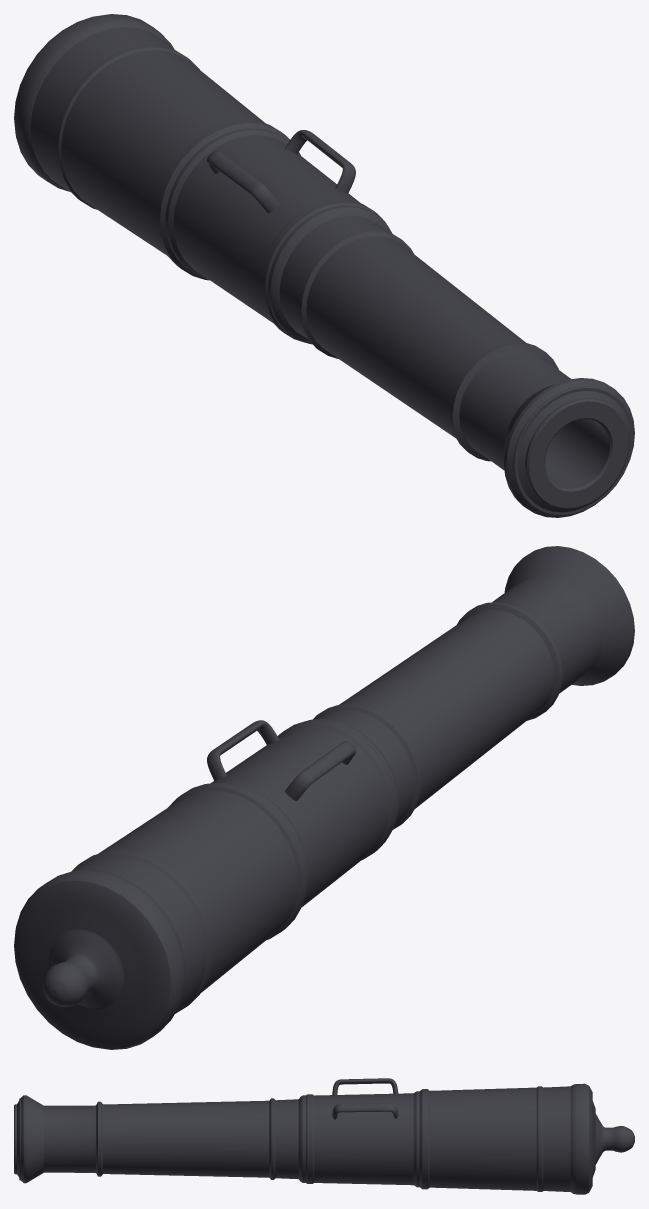
File: Cannon_2.fbx
3 views of the same model, one above another, from view 1: azimuth 30°, elevation 25°; view 2: azimuth 150°, elevation 25°; view 3: azimuth 270°, elevation 25° (orthographic). The views are drawn at different scales.
Parts seen in each view (by area): view 1: Cannon_2; view 2: Cannon_2; view 3: Cannon_2.
Boxes of the visible parts, left/top/right/bottom form: Cannon_2: left=14, top=14, right=634, bottom=517; Cannon_2: left=14, top=546, right=634, bottom=1049; Cannon_2: left=14, top=1078, right=634, bottom=1194.
Bounding box in the file's own units: 2.94 × 2.94 × 16.46.
